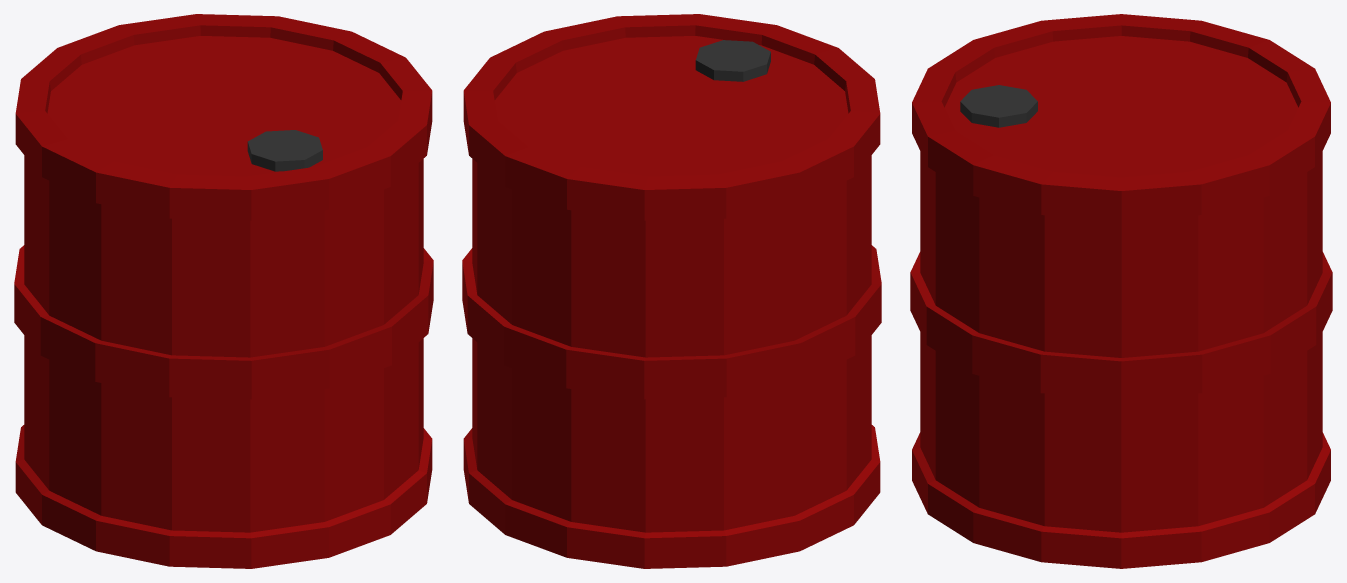
File: Barrel.fbx
3 renders of one model, left to right at view 1: azimuth 30°, elevation 25°; view 2: azimuth 150°, elevation 25°; view 3: azimuth 270°, elevation 25°, orthographic.
Visible parts, largest first — view 1: Cylinder.001; view 2: Cylinder.001; view 3: Cylinder.001.
Part boxes in pixels (box(x1,y1,x2,y2)): Cylinder.001: box(14, 14, 433, 568); Cylinder.001: box(462, 14, 881, 568); Cylinder.001: box(910, 14, 1332, 568).
Bounding box in the file's own units: 30.1 × 29.82 × 30.1.
